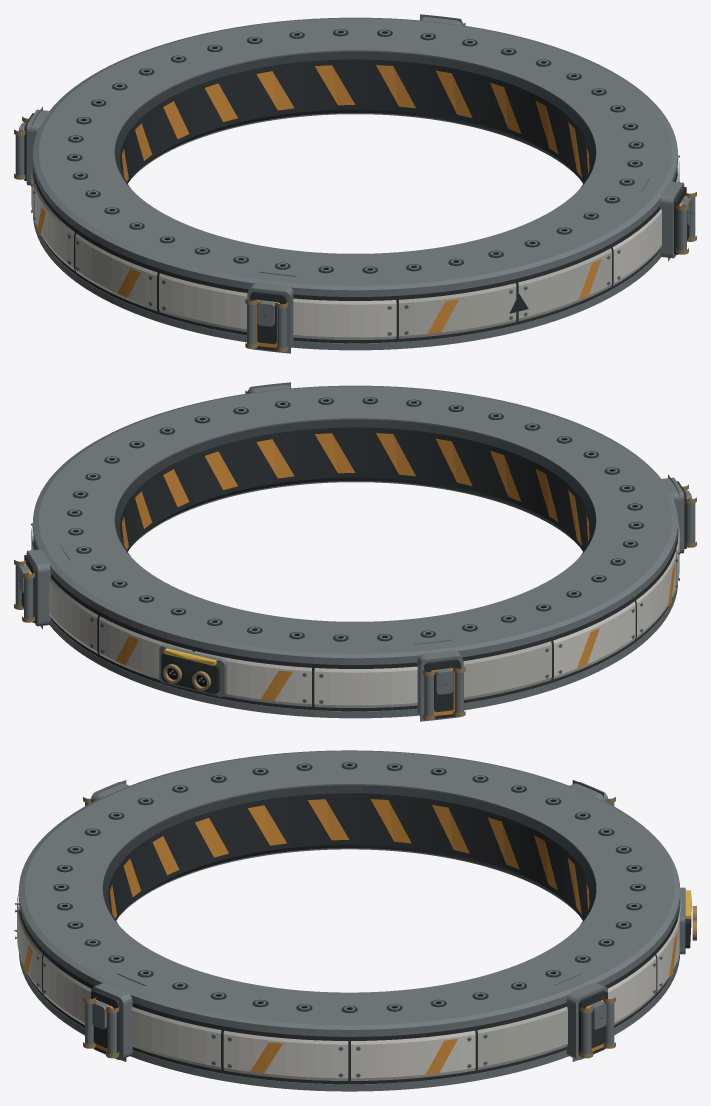
File: atlas_1.glb
The picture shows the model from 3 angles, top to bottom: view 1: azimuth 30°, elevation 25°; view 2: azimuth 150°, elevation 25°; view 3: azimuth 270°, elevation 25°; orthographic projection. The views are drawn at different scales.
Parts seen in each view (by area): view 1: Atlas_1_Decoupler; view 2: Atlas_1_Decoupler; view 3: Atlas_1_Decoupler.
Boxes of the visible parts, bbox=[...] form: Atlas_1_Decoupler: bbox=[14, 14, 696, 353]; Atlas_1_Decoupler: bbox=[14, 382, 696, 721]; Atlas_1_Decoupler: bbox=[14, 750, 696, 1091].
Bounding box in the file's own units: 1.91 × 0.216 × 1.95.
